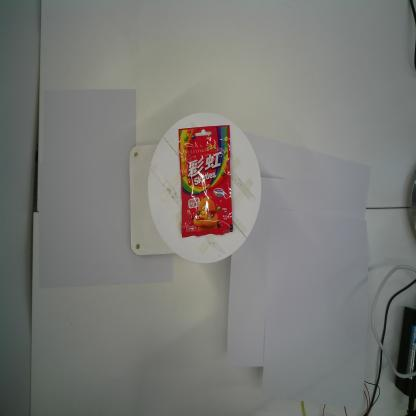Candy: (178, 123, 235, 239)
